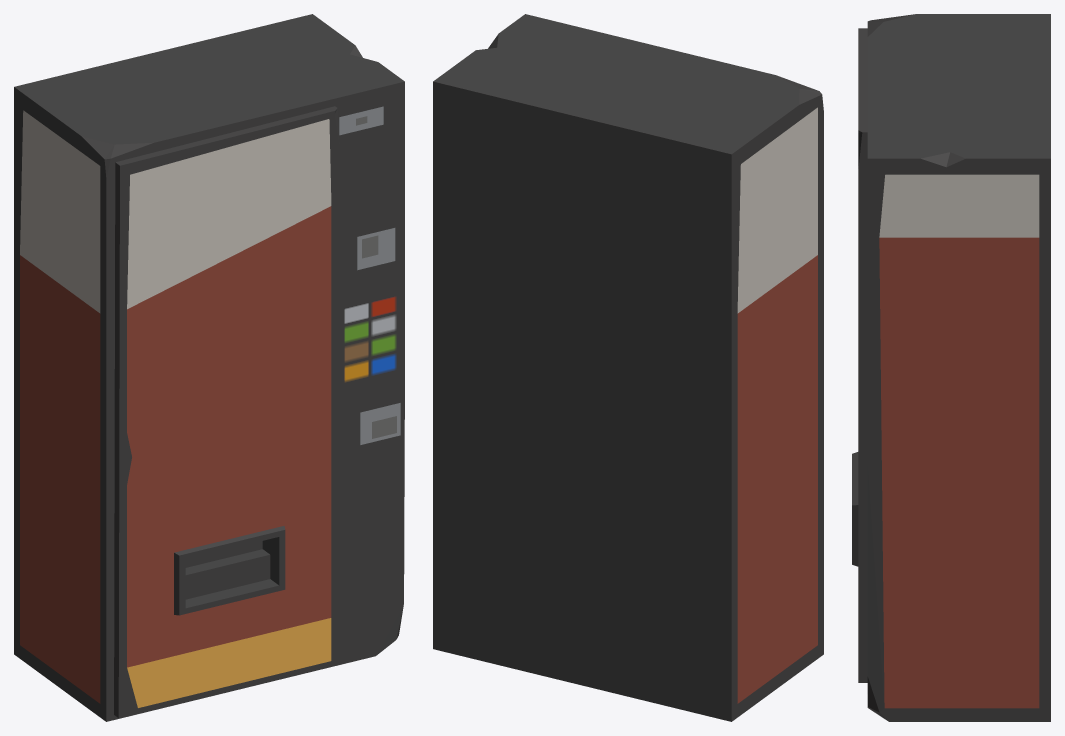
The model's file is SM_Prop_VendingMachine_01.fbx.
3 renders of one model, left to right at view 1: azimuth 30°, elevation 25°; view 2: azimuth 150°, elevation 25°; view 3: azimuth 270°, elevation 25°, orthographic.
Visible parts, largest first — view 1: SM_Prop_VendingMachine_01; view 2: SM_Prop_VendingMachine_01; view 3: SM_Prop_VendingMachine_01.
Part boxes in pixels (x1,y1,x2,y2): SM_Prop_VendingMachine_01: (14,14,404,721); SM_Prop_VendingMachine_01: (433,14,823,721); SM_Prop_VendingMachine_01: (852,14,1050,721).
Bounding box in the file's own units: 121 × 219 × 70.08.
